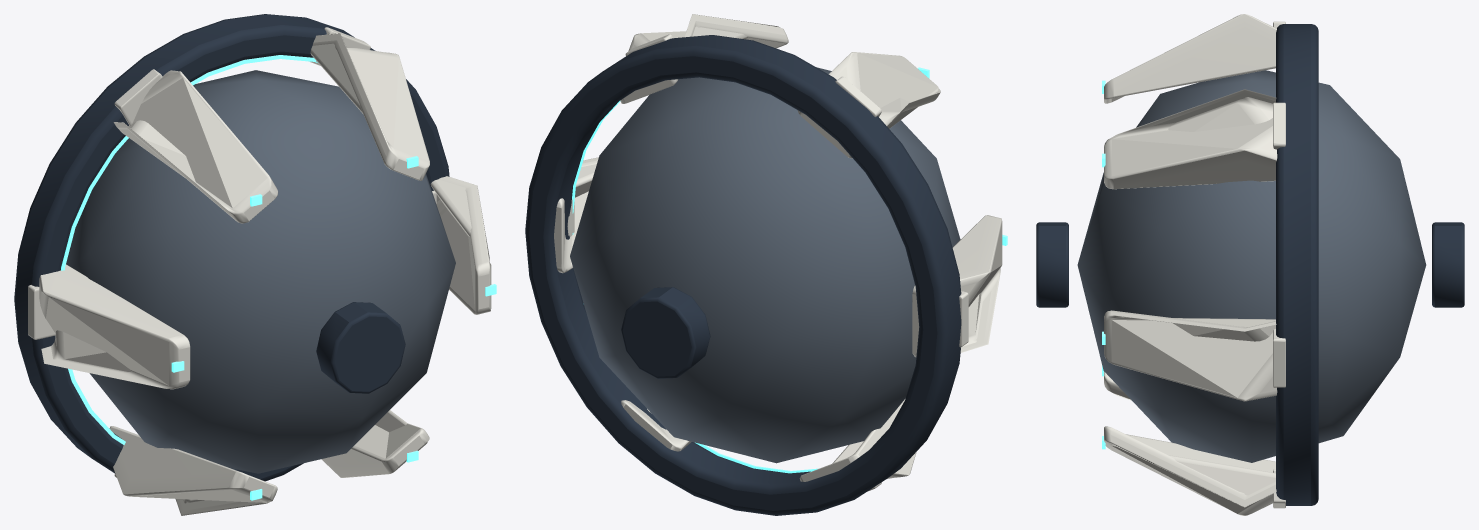
File: llm_core.glb
The picture shows the model from 3 angles, left to right: view 1: azimuth 30°, elevation 25°; view 2: azimuth 150°, elevation 25°; view 3: azimuth 270°, elevation 25°; orthographic projection. The views are drawn at different scales.
Visible parts, largest first — view 1: llm_core__core, llm_core__outer_ring, llm_core__shield_04, llm_core__shield_03, llm_core__shield_02, llm_core__shield_05, llm_core__output, llm_core__shield_01, llm_core__shield_06, llm_core__outer_ring_emissive; view 2: llm_core__core, llm_core__outer_ring, llm_core__input, llm_core__shield_04, llm_core__shield_03, llm_core__shield_02, llm_core__shield_01, llm_core__shield_05, llm_core__shield_06, llm_core__outer_ring_emissive; view 3: llm_core__core, llm_core__outer_ring, llm_core__shield_02, llm_core__shield_01, llm_core__shield_03, llm_core__shield_06, llm_core__input, llm_core__output, llm_core__outer_ring_armor.
Part boxes in pixels (x1,y1,x2,y2): llm_core__core: (66,70,455,473); llm_core__outer_ring: (14,14,449,481); llm_core__shield_04: (39,264,190,389); llm_core__shield_03: (113,70,278,223); llm_core__shield_02: (310,33,429,180); llm_core__shield_05: (109,426,277,515); llm_core__output: (316,302,405,393); llm_core__shield_01: (430,176,491,314); llm_core__shield_06: (321,410,429,477); llm_core__outer_ring_emissive: (61,55,317,444); llm_core__core: (570,67,960,463); llm_core__outer_ring: (525,34,968,515); llm_core__input: (621,287,710,378); llm_core__shield_04: (912,215,1002,357); llm_core__shield_03: (797,52,940,158); llm_core__shield_02: (620,14,788,103); llm_core__shield_01: (554,157,598,273); llm_core__shield_05: (799,399,916,481); llm_core__shield_06: (621,400,691,451); llm_core__outer_ring_emissive: (572,101,818,473); llm_core__core: (1077,70,1426,462); llm_core__outer_ring: (1273,21,1318,508); llm_core__shield_02: (1104,89,1277,189); llm_core__shield_01: (1104,310,1277,401); llm_core__shield_03: (1104,14,1276,103); llm_core__shield_06: (1104,426,1276,515); llm_core__input: (1432,222,1464,307); llm_core__output: (1036,222,1068,307); llm_core__outer_ring_armor: (1273,329,1285,387).
Size of the model in its own units: 3.37 by 3.4 by 3.
